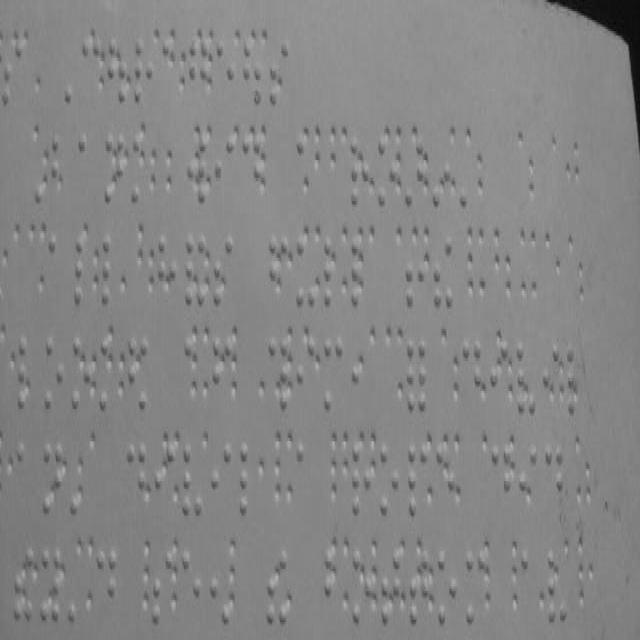braiile: (180, 440, 203, 520), (322, 332, 344, 414), (238, 439, 260, 521), (46, 230, 70, 304), (296, 438, 318, 518), (378, 440, 400, 520), (490, 442, 512, 522), (96, 544, 118, 624), (461, 337, 482, 419), (407, 439, 428, 521), (375, 134, 397, 212), (180, 548, 202, 626), (436, 550, 458, 628), (464, 548, 486, 626), (42, 336, 64, 412), (125, 440, 147, 516), (210, 442, 232, 518), (351, 441, 372, 519), (214, 134, 236, 208), (14, 441, 36, 515), (152, 546, 172, 626), (74, 234, 95, 308), (100, 236, 122, 306), (295, 333, 315, 409), (78, 131, 99, 202), (544, 447, 564, 518), (1, 40, 22, 107), (520, 546, 538, 624), (295, 236, 315, 306), (134, 37, 154, 104), (215, 37, 235, 104), (242, 42, 262, 109), (242, 134, 260, 208), (189, 37, 207, 104)
